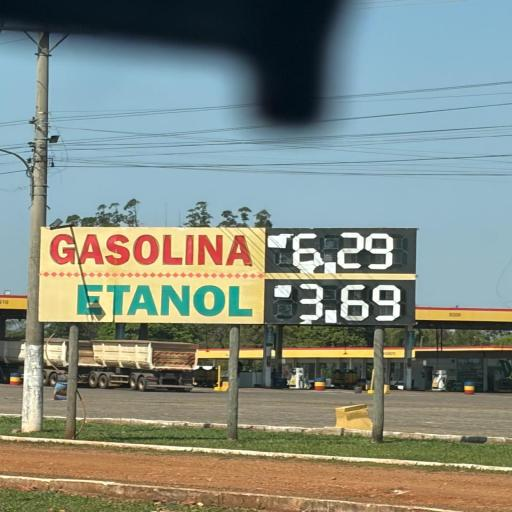ETANOL: (63, 280, 256, 320)
GASOLINA C: (48, 230, 257, 272)
placa: (41, 228, 417, 325)
preco: (292, 282, 408, 323), (290, 233, 395, 273)
